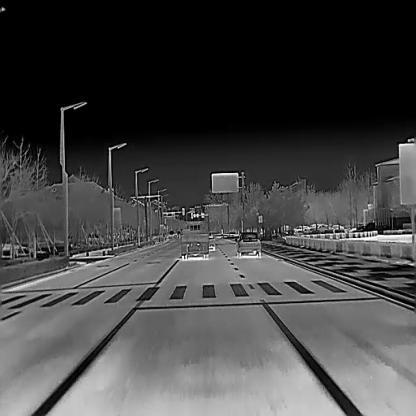car: (180, 220, 209, 259), (236, 231, 261, 258), (292, 225, 311, 234), (311, 224, 331, 232), (329, 224, 344, 232)
